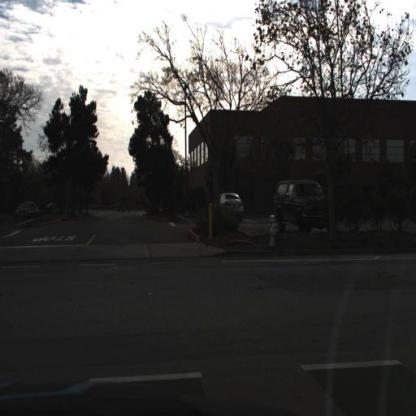car: (273, 177, 337, 232), (272, 180, 334, 236), (219, 191, 246, 222), (12, 199, 40, 226)
